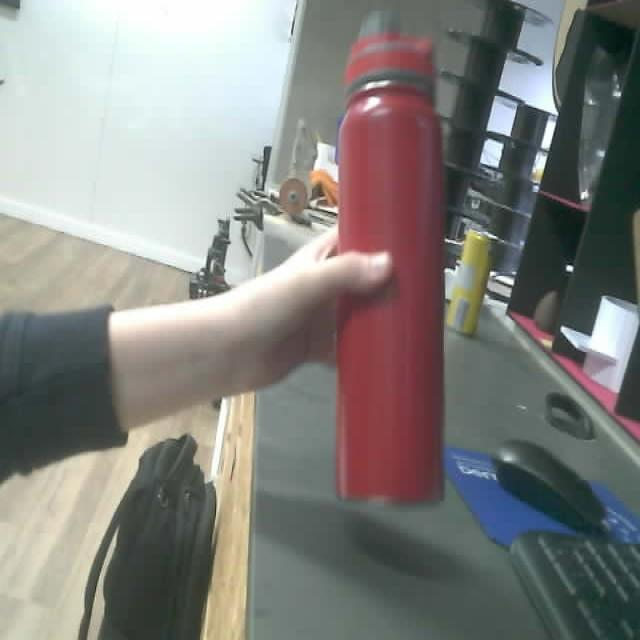water bottle: (334, 31, 449, 513)
